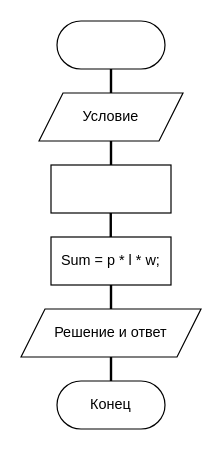
Some shapes in this 222 by 450 pixel diagram are drawn without their labels. Each missing label, with the centre of its shape:
int p, l, w;: pixel 110 188
Начало: pixel 110 44
